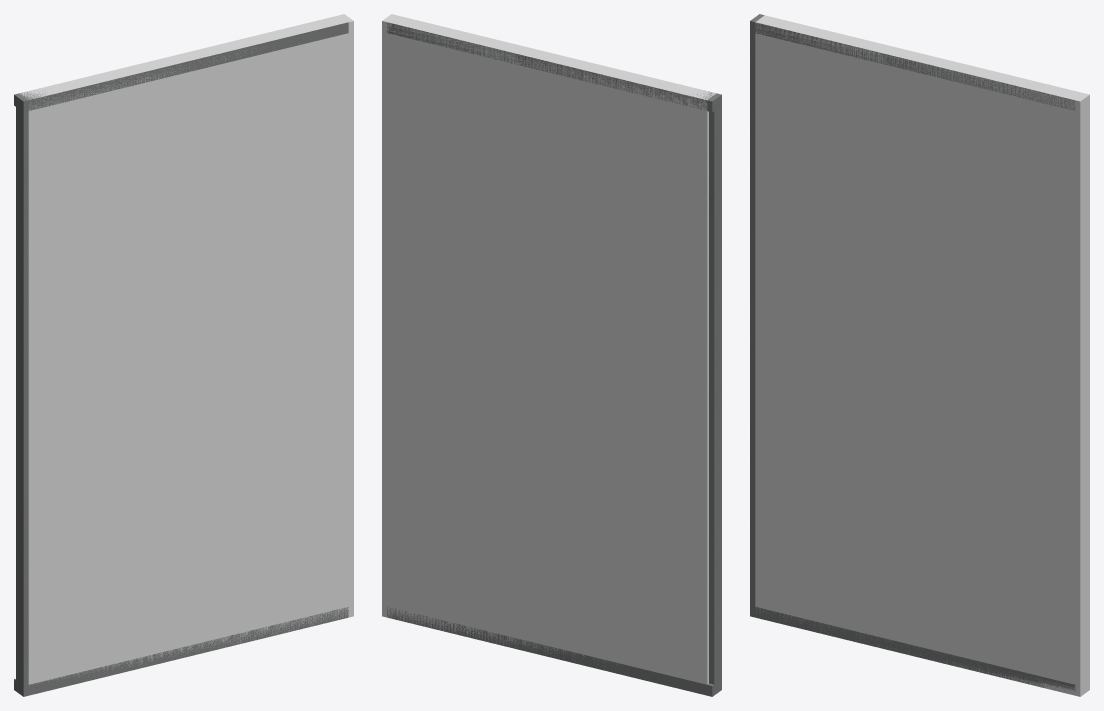
File: SM_Glass_4x2.fbx
3 renders of one model, left to right at view 1: azimuth 30°, elevation 25°; view 2: azimuth 150°, elevation 25°; view 3: azimuth 330°, elevation 25°, orthographic.
Visible parts, largest first — view 1: SM_Glass_4x2_ConvexHulls, SM_Glass_4x2_LOD0; view 2: SM_Glass_4x2_ConvexHulls, SM_Glass_4x2_LOD0; view 3: SM_Glass_4x2_ConvexHulls, SM_Glass_4x2_LOD0.
Part boxes in pixels (<box>): SM_Glass_4x2_ConvexHulls: <box>20,14,353,684</box>; SM_Glass_4x2_LOD0: <box>14,22,348,696</box>; SM_Glass_4x2_ConvexHulls: <box>382,14,715,684</box>; SM_Glass_4x2_LOD0: <box>387,22,721,696</box>; SM_Glass_4x2_ConvexHulls: <box>755,15,1089,696</box>; SM_Glass_4x2_LOD0: <box>750,14,1075,691</box>.
Bounding box in the file's own units: 203 × 10.13 × 350.
2 materials, 2 textured.
